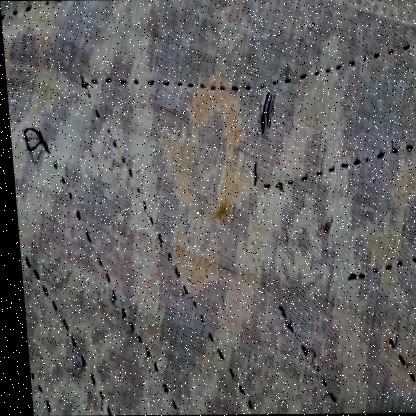spot: (202, 196, 236, 228), (142, 1, 161, 40)
